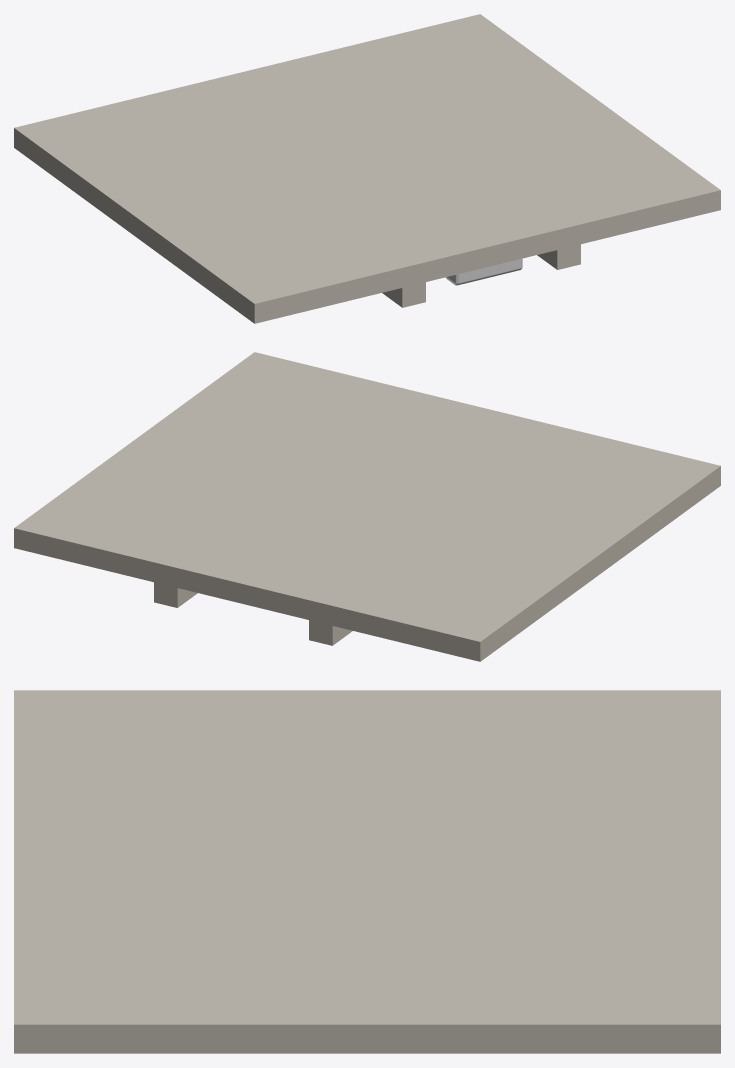
Rendered from Ceiling.obj.
3 views of the same model, one above another, from view 1: azimuth 30°, elevation 25°; view 2: azimuth 150°, elevation 25°; view 3: azimuth 270°, elevation 25° (orthographic). The views are drawn at different scales.
Visible parts, largest first — view 1: Ceiling_Ceiling_initialShadingGroup.001, Ceiling_Ceiling_lambert8SG; view 2: Ceiling_Ceiling_initialShadingGroup.001; view 3: Ceiling_Ceiling_initialShadingGroup.001.
Part boxes in pixels (<box>): Ceiling_Ceiling_initialShadingGroup.001: <box>14,14,720,323</box>; Ceiling_Ceiling_lambert8SG: <box>445,258,522,285</box>; Ceiling_Ceiling_initialShadingGroup.001: <box>14,352,720,661</box>; Ceiling_Ceiling_initialShadingGroup.001: <box>14,690,720,1053</box>.
Bounding box in the file's own units: 24.5 × 2.01 × 21.9.
